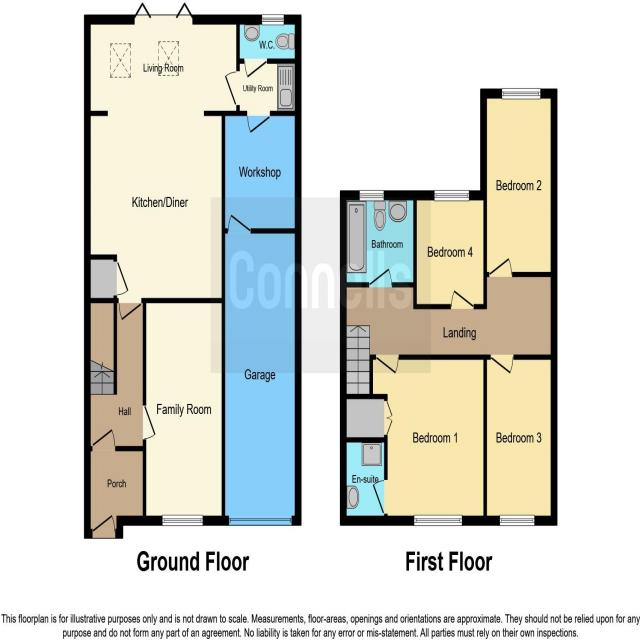DOOR: (89, 512, 116, 539), (226, 212, 253, 235), (371, 478, 388, 514), (91, 427, 116, 451), (117, 300, 143, 323), (488, 354, 514, 376), (374, 354, 400, 375), (367, 267, 393, 288), (143, 403, 157, 441), (488, 256, 513, 277), (450, 289, 474, 309)
FOLDING DOOR: (133, 1, 194, 25)
ROOM: (83, 1, 240, 328), (340, 353, 485, 525), (142, 298, 225, 526), (480, 89, 557, 278), (485, 354, 558, 525), (413, 190, 486, 309)
WINDOW: (413, 514, 463, 528), (500, 87, 542, 102), (161, 514, 204, 528), (434, 189, 470, 203), (499, 514, 535, 527), (358, 189, 385, 202), (261, 13, 285, 27)
